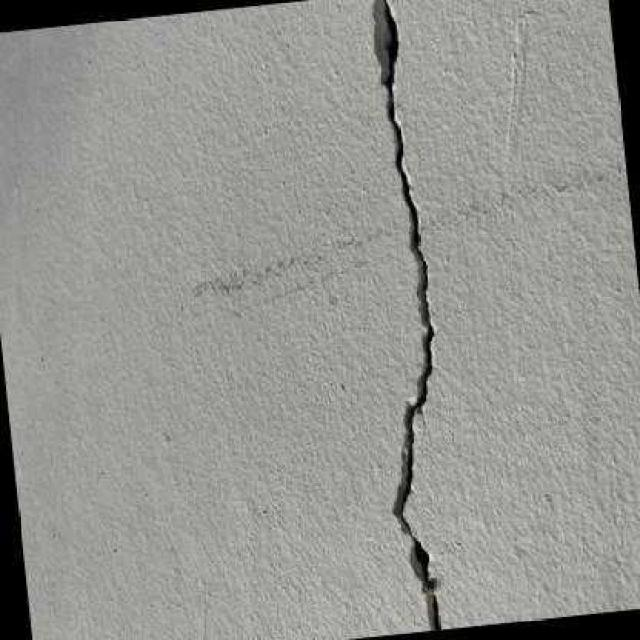D00: (384, 0, 441, 630)
